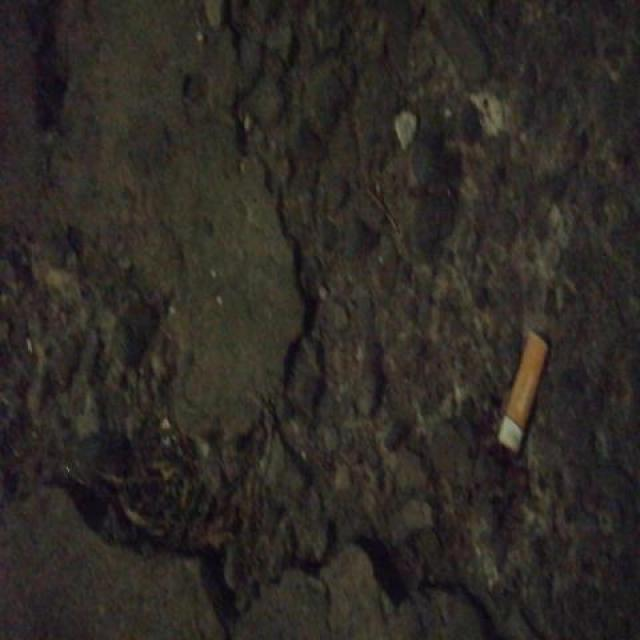non-organic waste: (492, 322, 552, 461)
